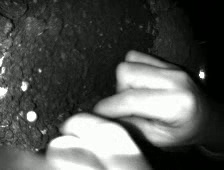corn: (23, 109, 39, 124), (18, 78, 31, 93)
